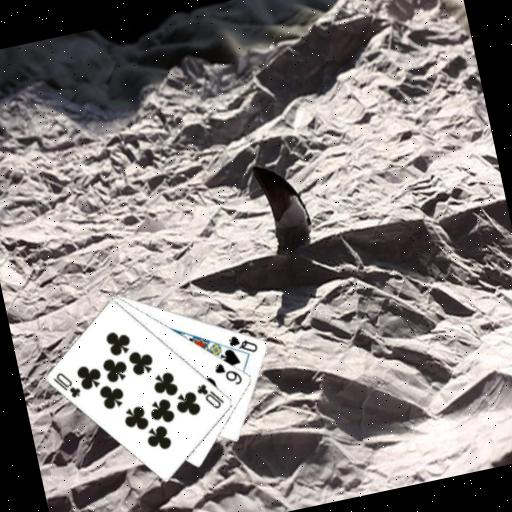10C: (192, 376, 227, 413), (49, 366, 84, 403)
6S: (210, 356, 244, 390)
QS: (224, 328, 260, 359)
